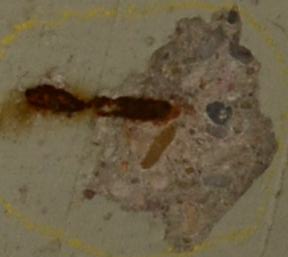Exposed reinforcement: (24, 83, 172, 122)
Spalling: (86, 4, 279, 252)
